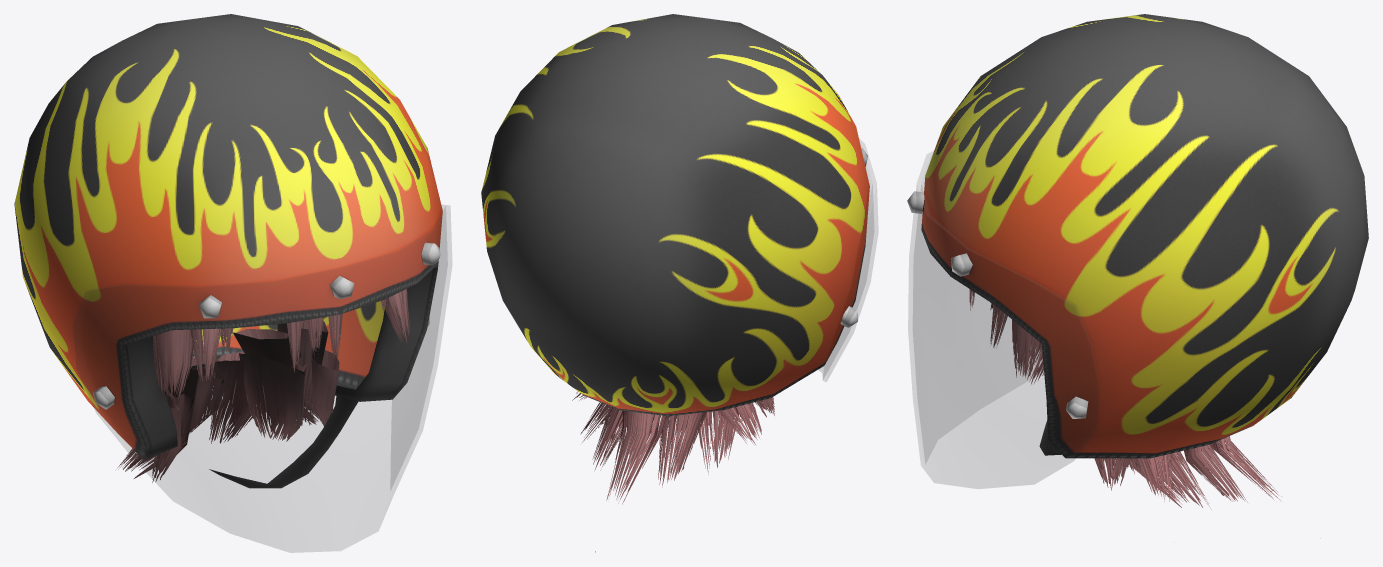
The model's file is helmet_fire.gltf.
The picture shows the model from 3 angles, left to right: view 1: azimuth 30°, elevation 25°; view 2: azimuth 150°, elevation 25°; view 3: azimuth 270°, elevation 25°; orthographic projection. The views are drawn at different scales.
Parts seen in each view (by area): view 1: helmet, helmet.glass, helmet.hair.girl, helmet.strap; view 2: helmet, helmet.hair.girl, helmet.glass; view 3: helmet, helmet.glass, helmet.hair.girl.
Part boxes in pixels (x1,y1,x2,y2): helmet: (14, 14, 442, 459); helmet.glass: (73, 205, 451, 552); helmet.hair.girl: (117, 289, 410, 482); helmet.strap: (209, 396, 359, 488); helmet: (481, 14, 869, 416); helmet.hair.girl: (572, 391, 774, 552); helmet.glass: (819, 139, 877, 381); helmet: (921, 14, 1368, 458); helmet.glass: (908, 151, 1099, 488); helmet.hair.girl: (969, 289, 1281, 509).
Bounding box in the file's own units: 0.365 × 0.4828 × 0.4007.
5 materials, 4 textured.
